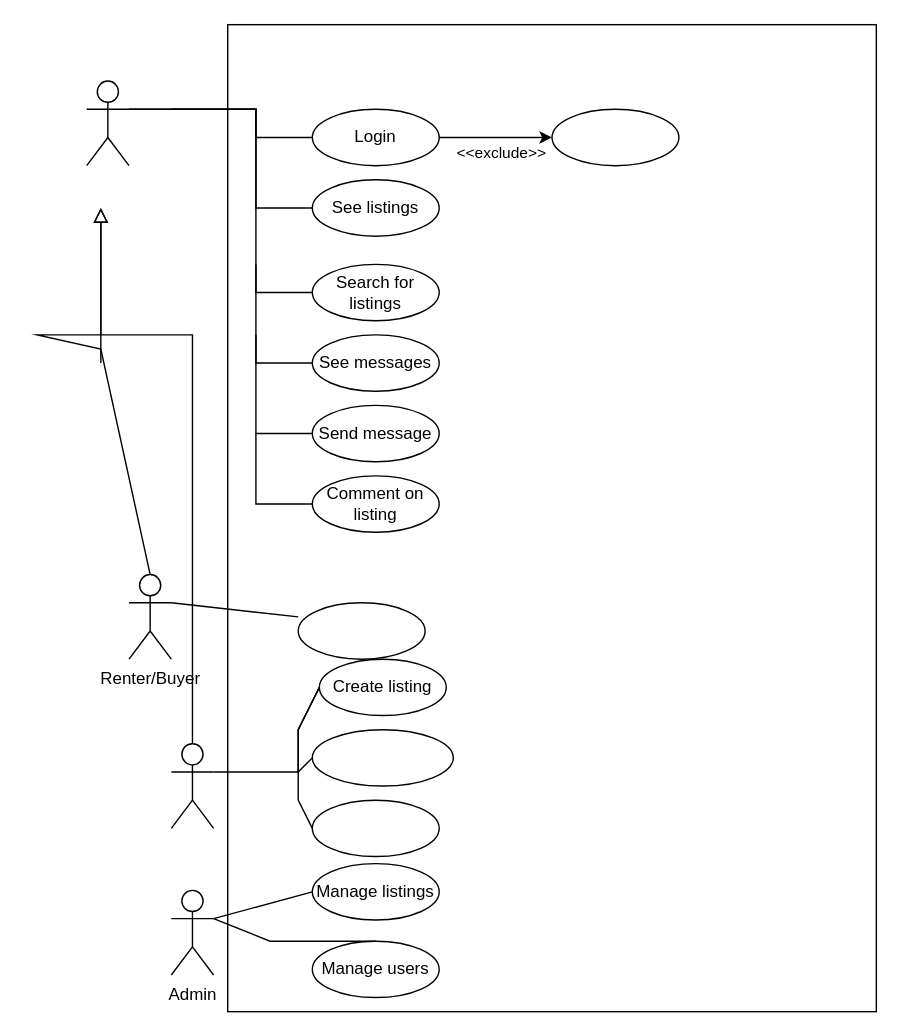
This 901x1036 diagram has some shape labels left out. Here are the shapes that lost their labels. From the top down, the box of each, then its label:
(85, 80, 129, 166): User
(551, 108, 679, 166): Wrong credentials
(297, 601, 425, 659): Make offer
(311, 728, 453, 786): Respond to an offer
(170, 742, 214, 828): LandLord
(311, 799, 439, 857): Edit listing
